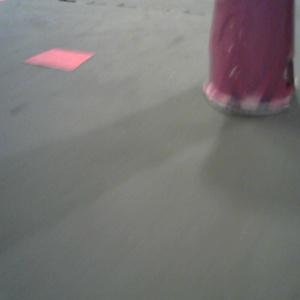right: (202, 1, 300, 115)
